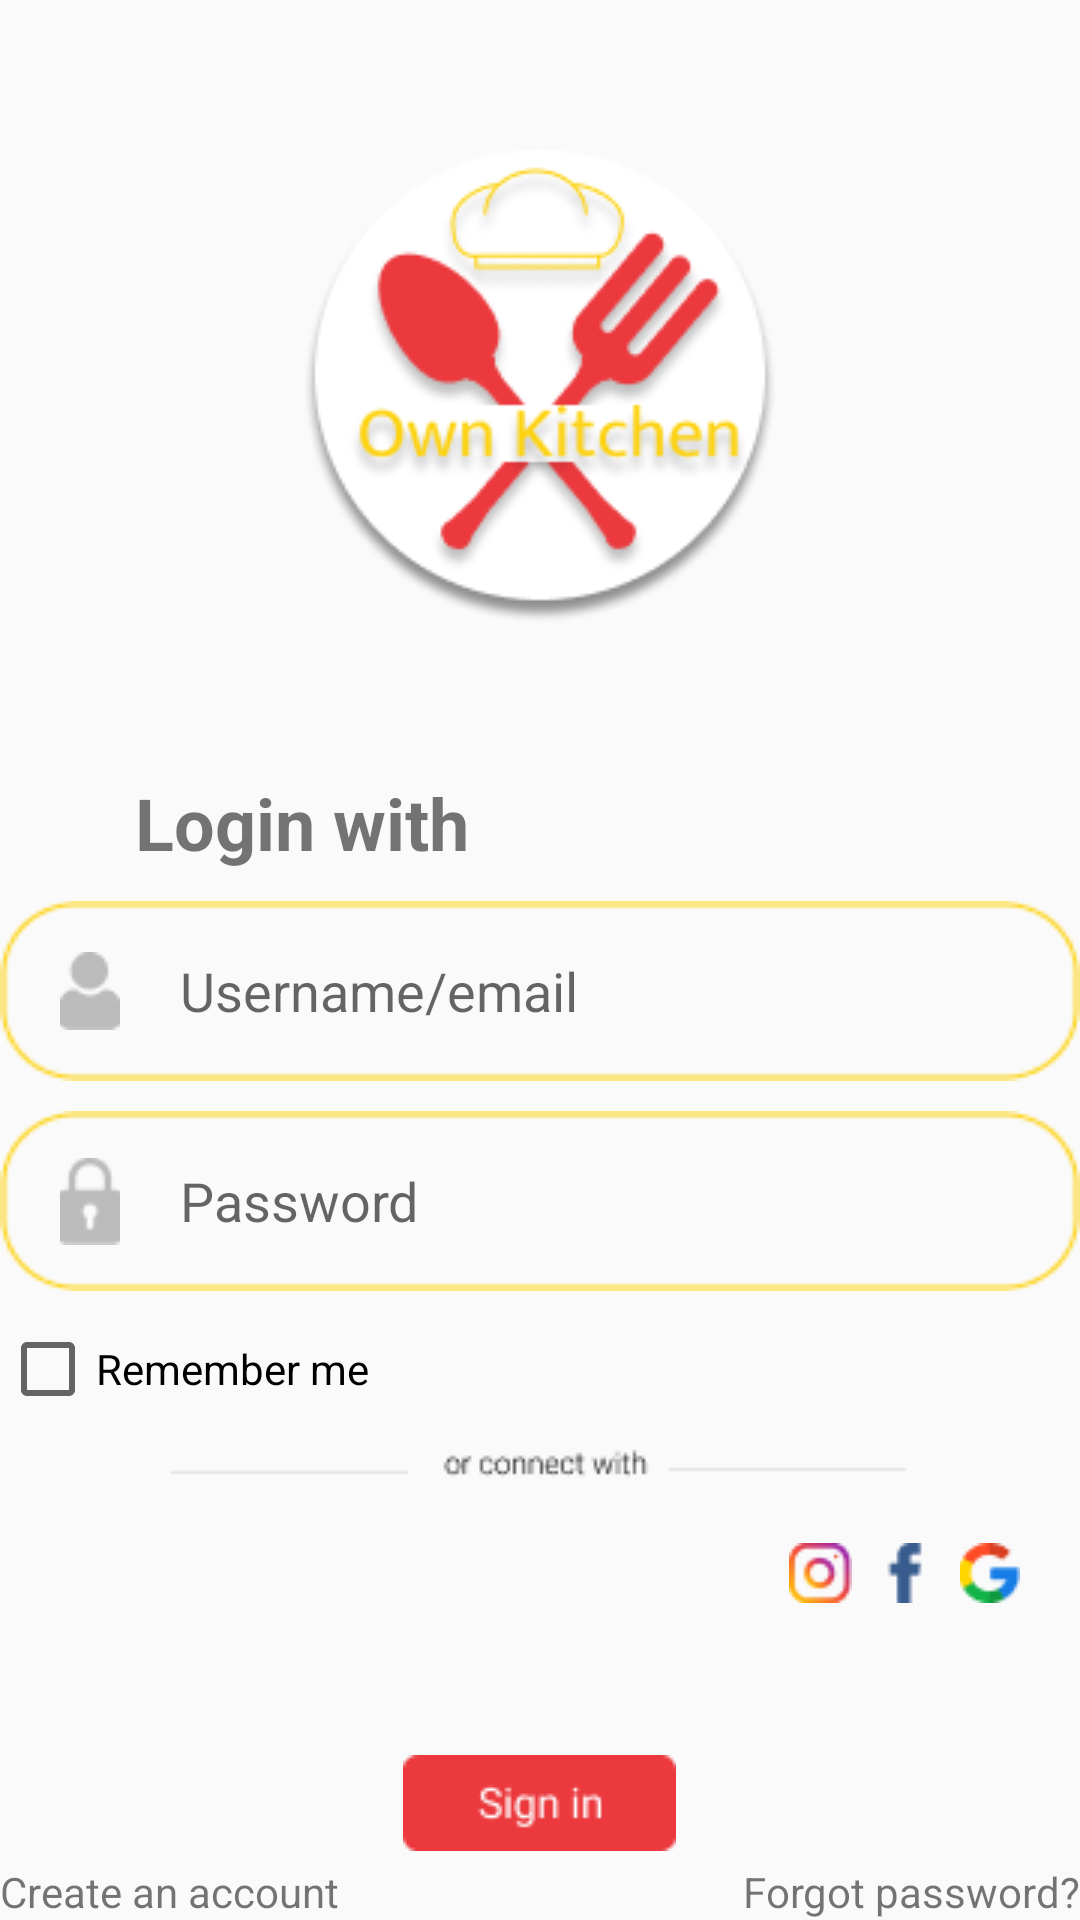

Point at icon controls on the screen. Image size 1080px x 1920px, points as (x=x, y=y).
padlock: (x=90, y=1201)
